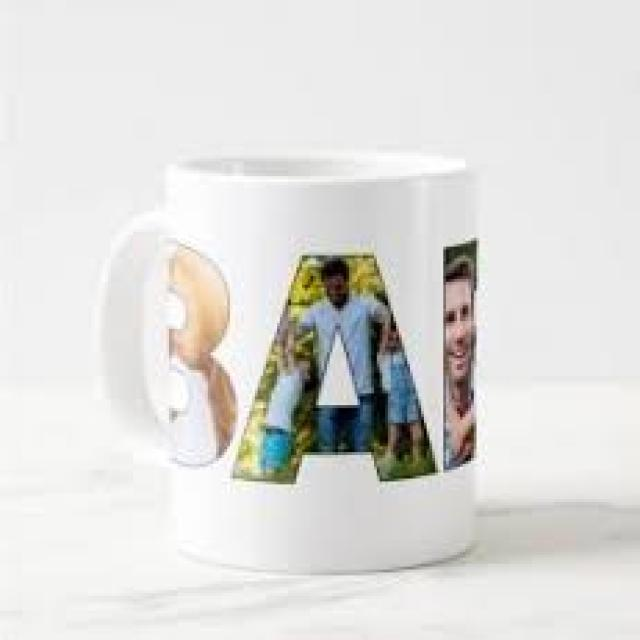taza: (98, 145, 480, 578)
